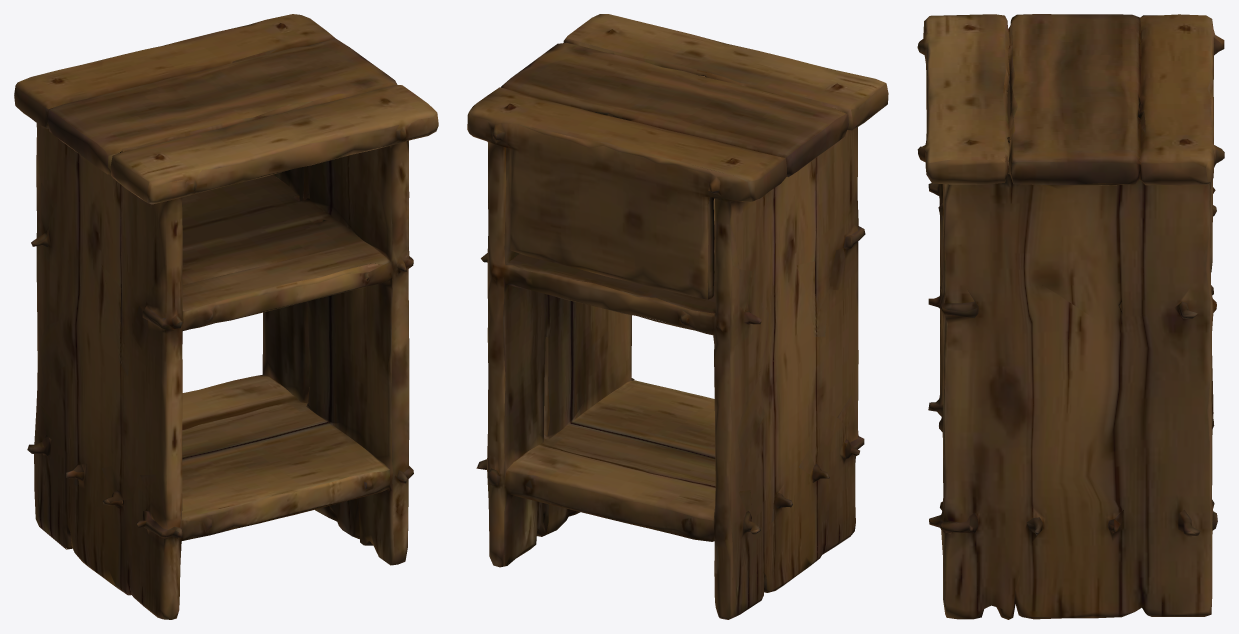
The model's file is velador_rustico.glb.
3 renders of one model, left to right at view 1: azimuth 30°, elevation 25°; view 2: azimuth 150°, elevation 25°; view 3: azimuth 270°, elevation 25°, orthographic. The views are drawn at different scales.
Parts seen in each view (by area): view 1: geometry_0; view 2: geometry_0; view 3: geometry_0.
Boxes of the visible parts, left/top/right/bottom form: geometry_0: left=14, top=14, right=438, bottom=619; geometry_0: left=467, top=14, right=888, bottom=619; geometry_0: left=917, top=14, right=1224, bottom=619.
Bounding box in the file's own units: 0.4 × 0.6 × 0.35.
Materials: 1 (1 with a texture image).
